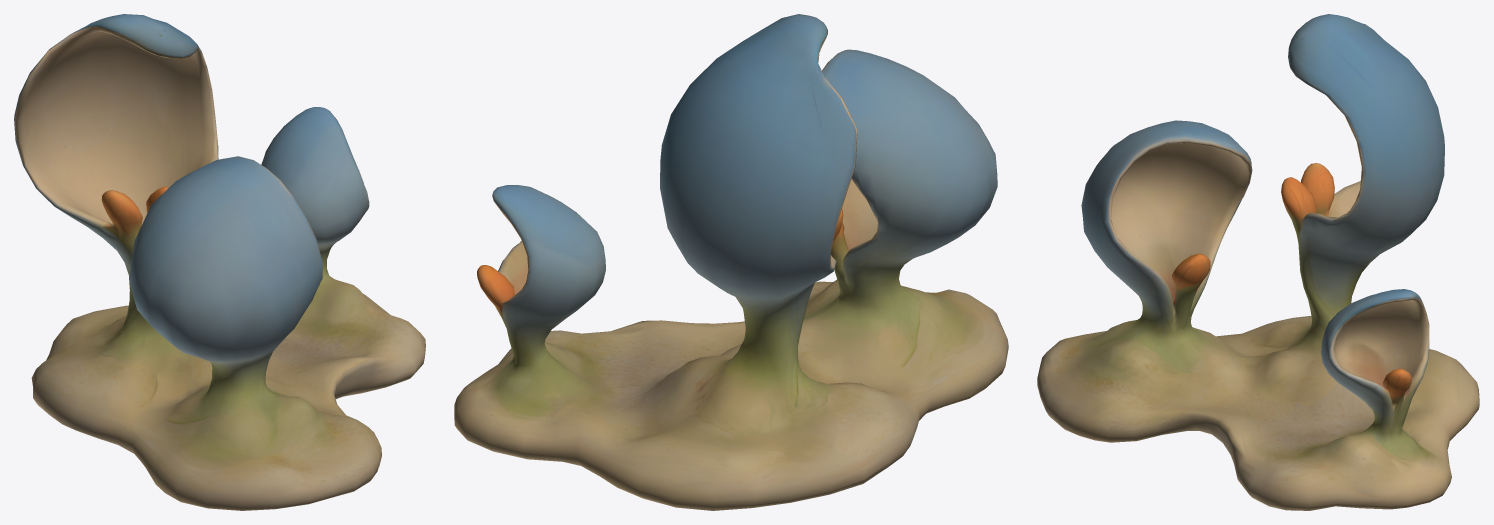
3 views of the same model, side by side, from view 1: azimuth 30°, elevation 25°; view 2: azimuth 150°, elevation 25°; view 3: azimuth 270°, elevation 25° (orthographic). The views are drawn at different scales.
Parts seen in each view (by area): view 1: tripo_node_318101d7-be0d-4075-900d-3a9aad715657; view 2: tripo_node_318101d7-be0d-4075-900d-3a9aad715657; view 3: tripo_node_318101d7-be0d-4075-900d-3a9aad715657.
Part boxes in pixels (x1,y1,x2,y2): tripo_node_318101d7-be0d-4075-900d-3a9aad715657: (14,14,425,510); tripo_node_318101d7-be0d-4075-900d-3a9aad715657: (454,14,1008,510); tripo_node_318101d7-be0d-4075-900d-3a9aad715657: (1037,14,1479,510).
Size of the model in its own units: 0.8767 by 0.9354 by 0.998.
Materials: 1 (1 with a texture image).
